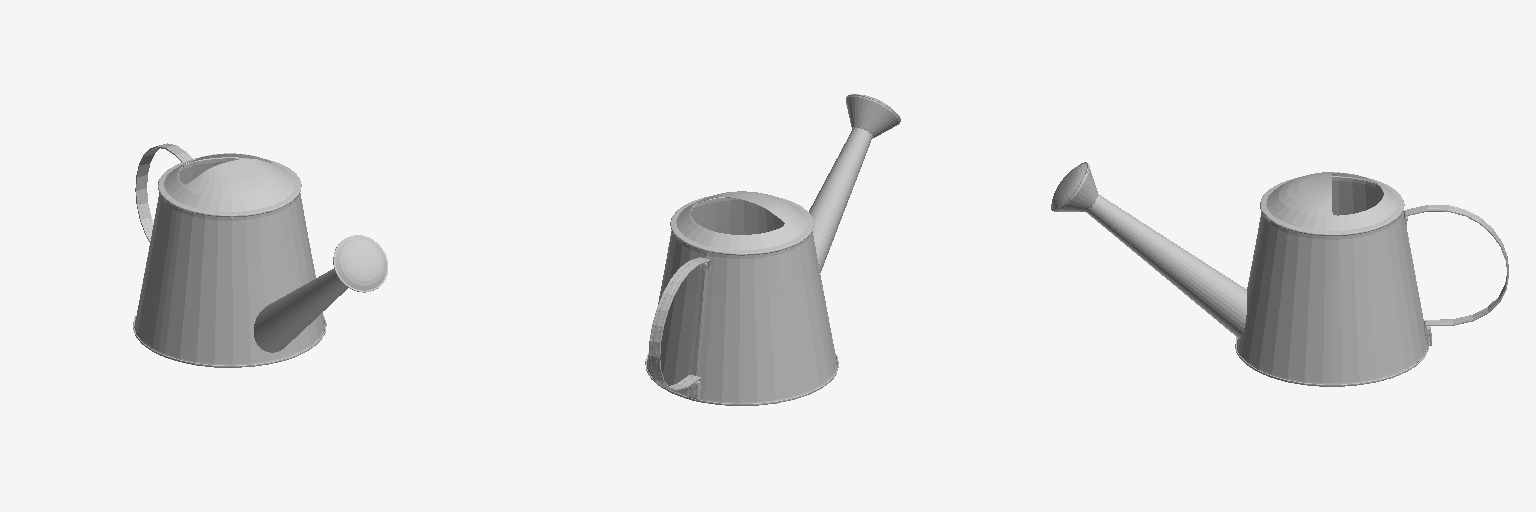
Rendered from watering_can_metal_01_4k.obj.
The picture shows the model from 3 angles: view 1: azimuth 30°, elevation 25°; view 2: azimuth 150°, elevation 25°; view 3: azimuth 270°, elevation 25°; orthographic projection.
Visible parts, largest first — view 1: watering_can_metal_01; view 2: watering_can_metal_01; view 3: watering_can_metal_01.
Part boxes in pixels (left/top/right/bottom): watering_can_metal_01: left=133, top=143, right=387, bottom=367; watering_can_metal_01: left=645, top=94, right=900, bottom=405; watering_can_metal_01: left=1051, top=162, right=1508, bottom=386.
Bounding box in the file's own units: 0.191 × 0.1968 × 0.4523.